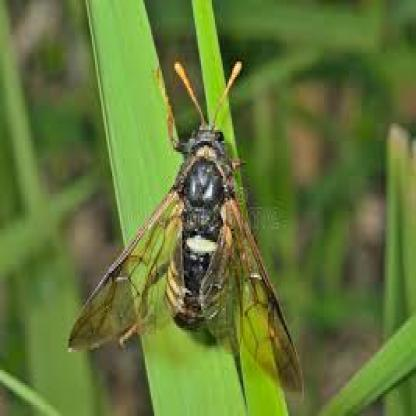sawfly: (61, 55, 309, 398)
